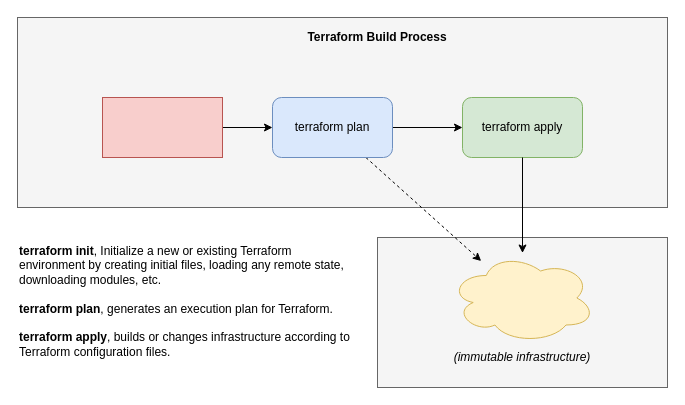
Image size: 685x405. Some labels were removed from this diagram. Each missing label, with the centre of its shape:
"Cloud provider" goes at point 522,297.
"terraform init" goes at point 162,127.
